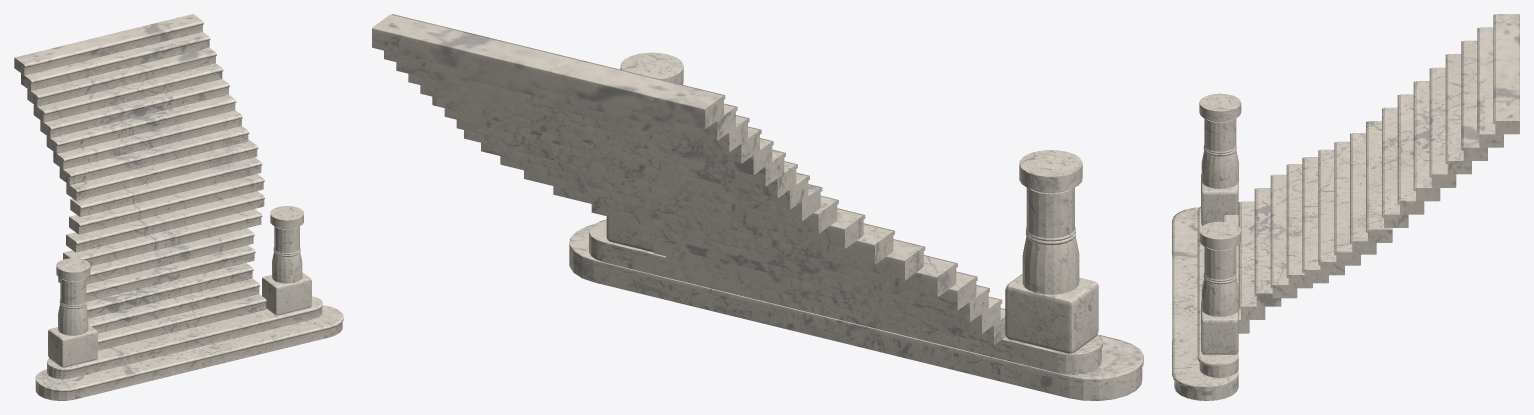
Rendered from stairs_main_with_texture.fbx.
3 renders of one model, left to right at view 1: azimuth 30°, elevation 25°; view 2: azimuth 150°, elevation 25°; view 3: azimuth 270°, elevation 25°, orthographic. The views are drawn at different scales.
Visible parts, largest first — view 1: stairs, stair_round_big_long, stair_round_short, pillar_stairs_left, pillar_stairs_right, bottom_pillar_stairs_left, bottom_pillar_stairs_right; view 2: stairs, stair_round_big_long, stair_round_short, pillar_stairs_left, bottom_pillar_stairs_left, pillar_stairs_right, bottom_pillar_stairs_right; view 3: stairs, stair_round_big_long, pillar_stairs_left, pillar_stairs_right, stair_round_short, bottom_pillar_stairs_right, bottom_pillar_stairs_left.
Boxes of the visible parts, <box> form: stairs: <box>14,14,266,350</box>; stair_round_big_long: <box>35,305,343,400</box>; stair_round_short: <box>47,296,322,379</box>; pillar_stairs_left: <box>56,258,90,335</box>; pillar_stairs_right: <box>270,206,303,283</box>; bottom_pillar_stairs_left: <box>48,324,97,367</box>; bottom_pillar_stairs_right: <box>262,272,311,315</box>; stairs: <box>372,14,1005,344</box>; stair_round_big_long: <box>569,224,1143,400</box>; stair_round_short: <box>589,219,1102,374</box>; pillar_stairs_left: <box>1019,150,1082,294</box>; bottom_pillar_stairs_left: <box>1005,273,1098,353</box>; pillar_stairs_right: <box>620,52,683,84</box>; bottom_pillar_stairs_right: <box>606,216,653,252</box>; stairs: <box>1223,14,1519,333</box>; stair_round_big_long: <box>1172,207,1238,400</box>; pillar_stairs_left: <box>1199,93,1241,188</box>; pillar_stairs_right: <box>1199,221,1241,316</box>; stair_round_short: <box>1197,206,1238,377</box>; bottom_pillar_stairs_right: <box>1201,302,1238,354</box>; bottom_pillar_stairs_left: <box>1201,174,1238,225</box>.
Size of the model in its own units: 10.88 by 7.6 by 8.89.
1 material, 1 textured.
